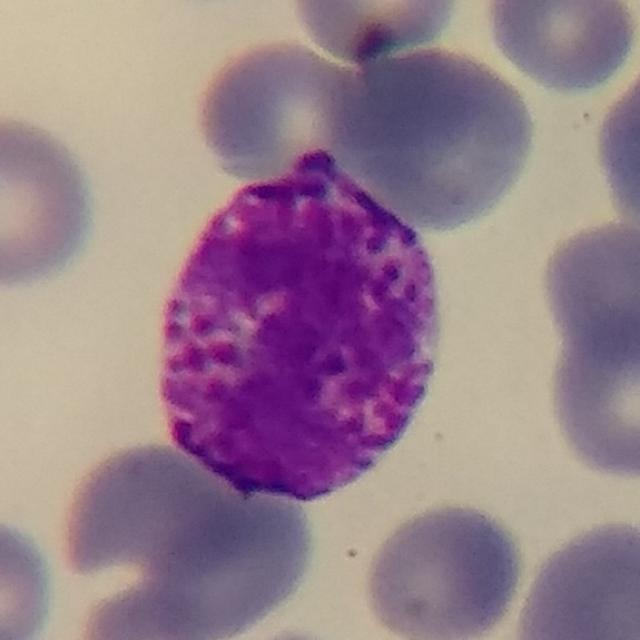baso: (153, 142, 447, 505)
